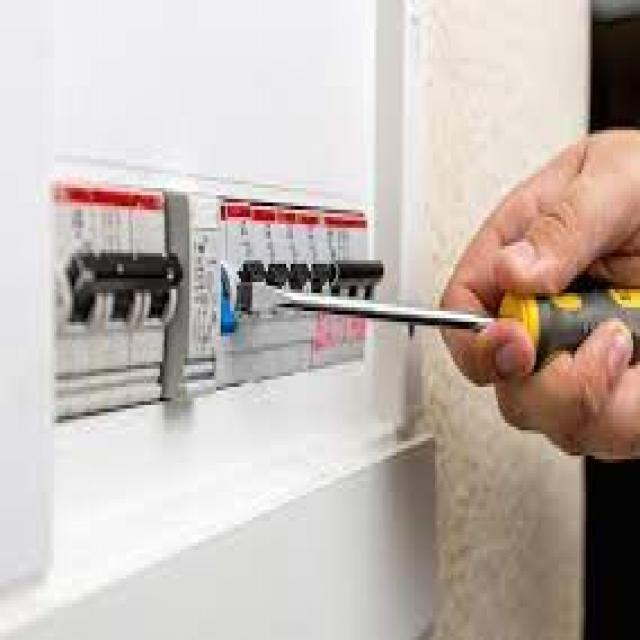screwdriver: (227, 267, 640, 354)
